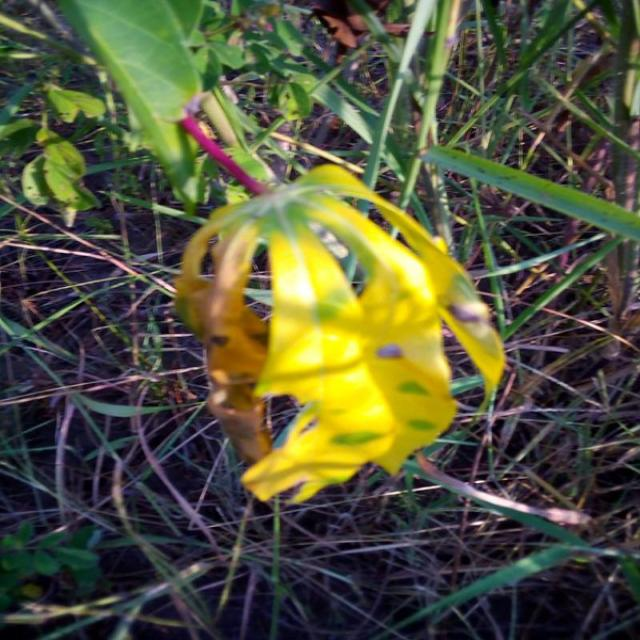cassava leaf: (174, 162, 506, 506), (56, 0, 206, 205)
